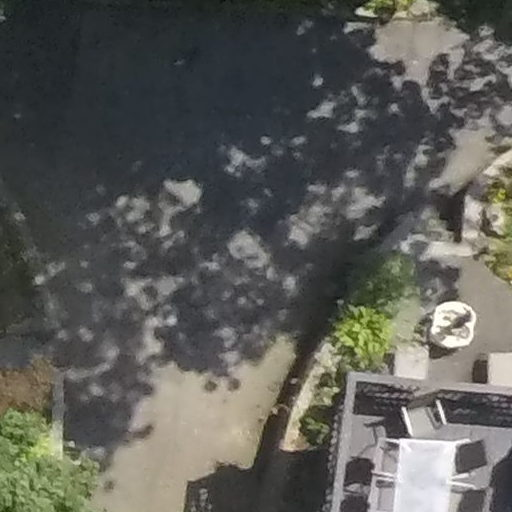porch: (324, 359, 504, 512)
table: (367, 428, 455, 512)
